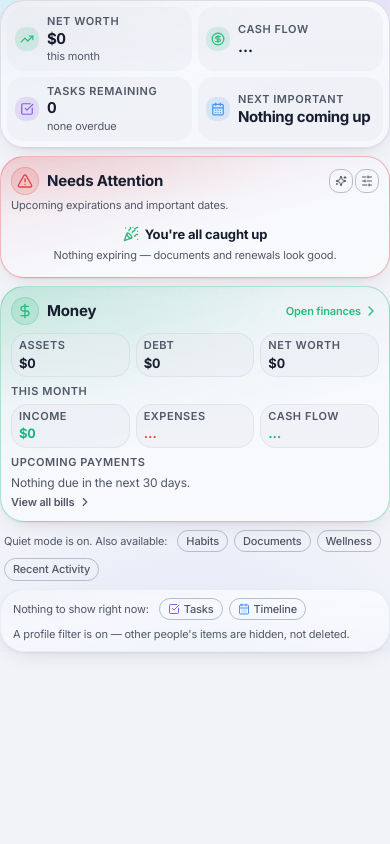
Test case: F-44 Generate AI advice › says so when the request fails, and offers Retry
expect the element with test id "exec-card-attention" is shown: met, box [0,156,389,278]
Step 1. Click the button with test id "exec-recommendations-generate" → [341, 180], box [329,168,353,192]
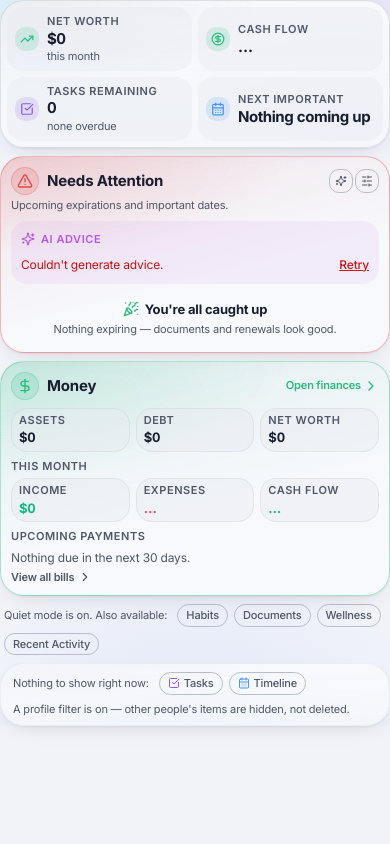
expect the element with test id "exec-recommendations-error" is shown: met, box [21,256,369,274]
expect the element with test id "exec-recommendations-error" shows "Retry": met, box [339,256,369,274]
